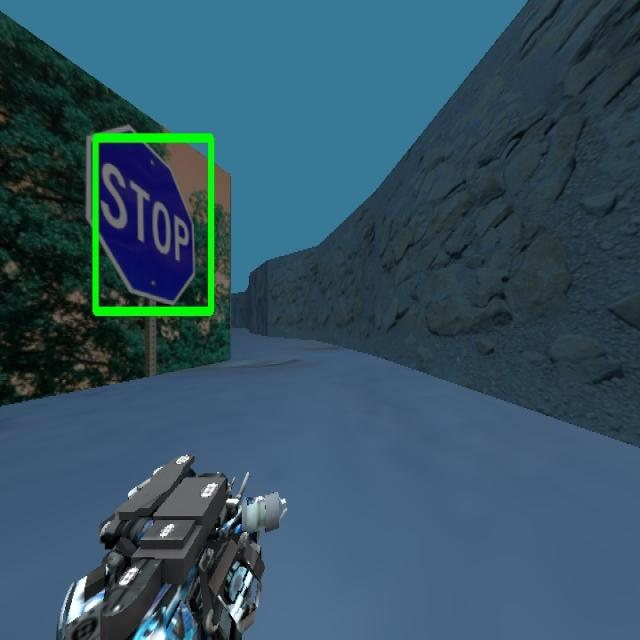Diamon: (90, 130, 215, 318)
